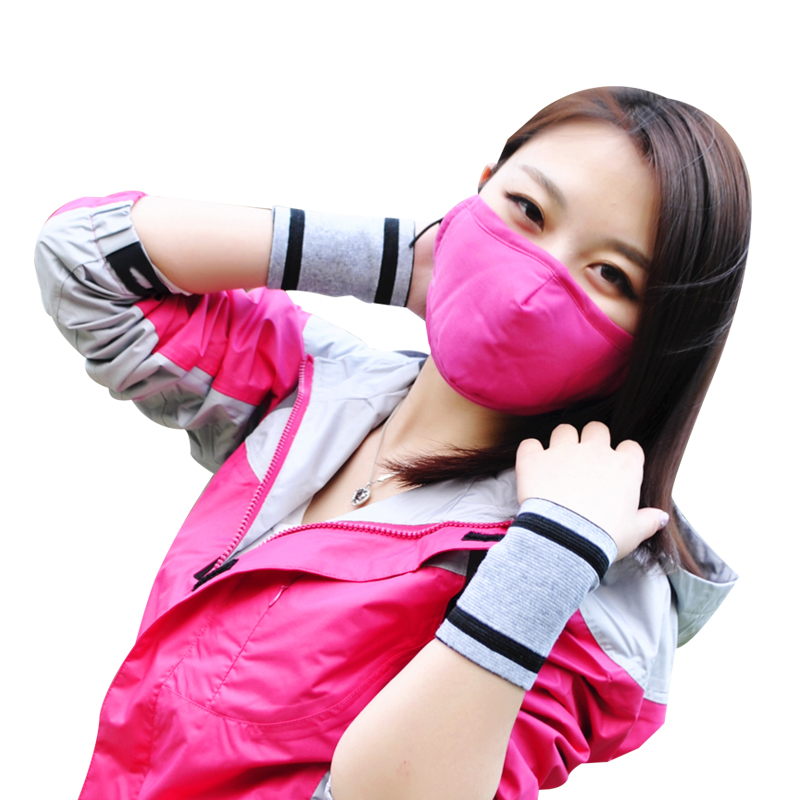face_mask: (425, 124, 646, 415)
